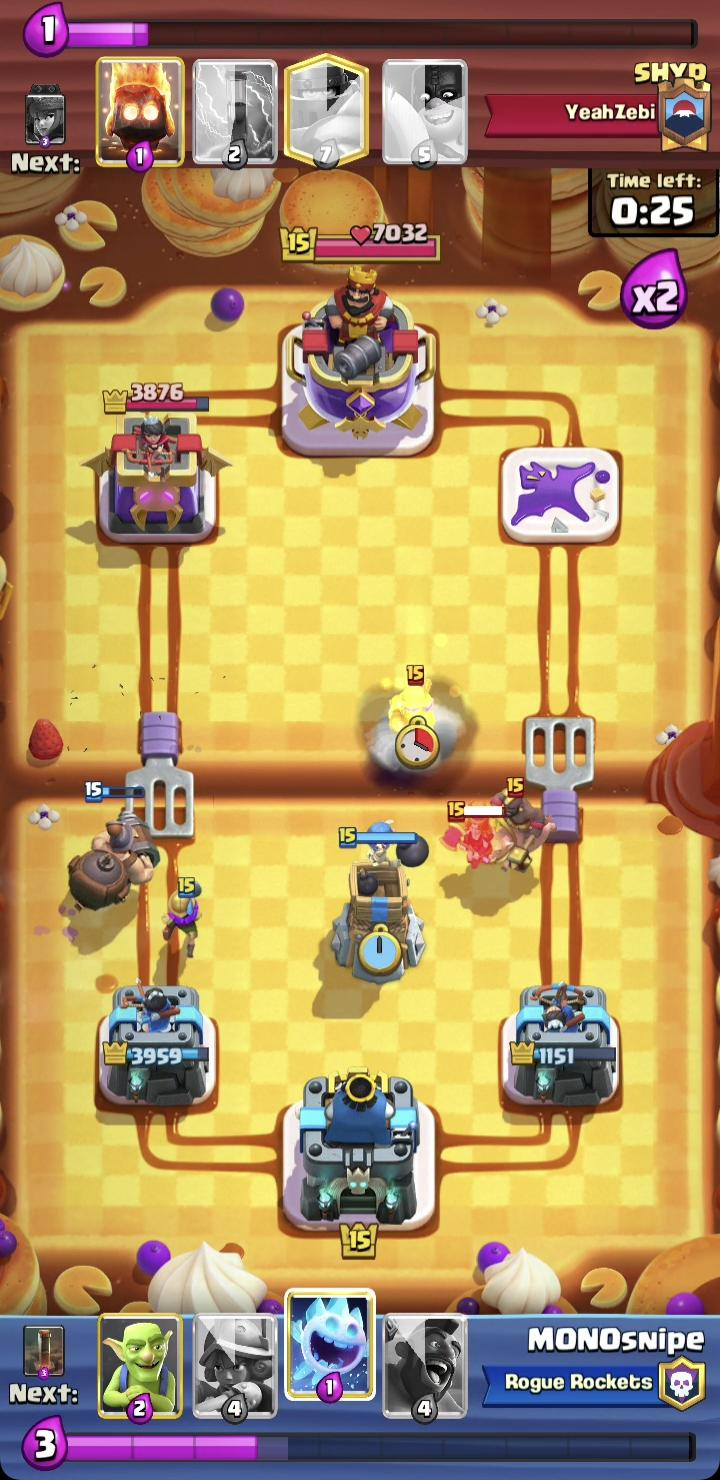EHogRider: (489, 778, 557, 872)
EKingTower: (282, 275, 436, 457)
EMusk: (387, 664, 440, 735)
EValk: (441, 801, 505, 869)
EnemyPrincessTower: (95, 388, 229, 544)
OBombertower: (333, 823, 427, 983)
OMightyMiner: (68, 789, 159, 910)
OMusk: (164, 877, 201, 958)
OwnKingTower: (283, 1071, 421, 1229), (422, 1106, 434, 1218)
OwnPrincessTower: (502, 983, 618, 1106), (99, 985, 215, 1107)
TowerDown: (501, 448, 619, 545)
